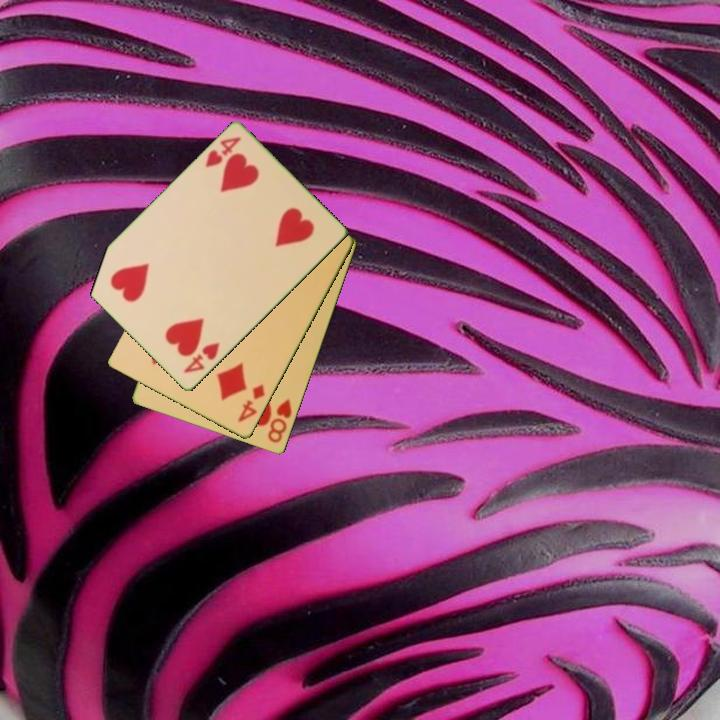4d: (234, 381, 268, 426)
4h: (180, 339, 223, 377), (202, 133, 244, 171)
8h: (264, 396, 295, 446)
